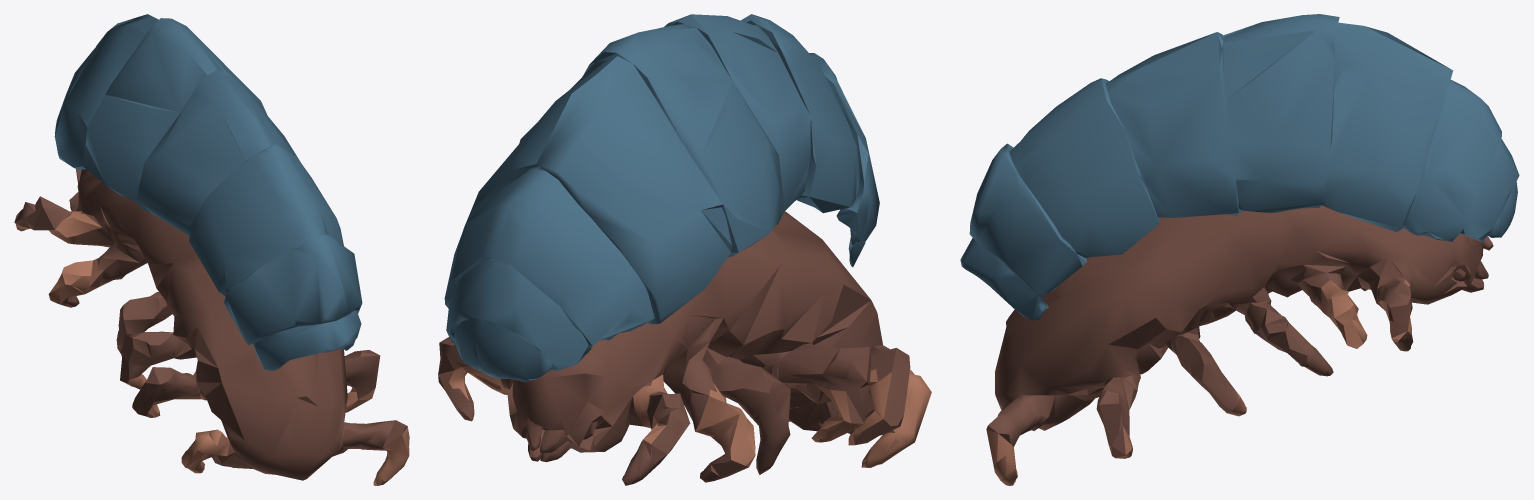
The model's file is big-spitter.glb.
3 views of the same model, side by side, from view 1: azimuth 30°, elevation 25°; view 2: azimuth 150°, elevation 25°; view 3: azimuth 270°, elevation 25° (orthographic). The views are drawn at different scales.
Visible parts, largest first — view 1: body; view 2: body; view 3: body.
Part boxes in pixels (x1=…): body: x1=14, y1=14, x2=409, y2=485; body: x1=438, y1=14, x2=931, y2=485; body: x1=960, y1=14, x2=1519, y2=485.
Size of the model in its own units: 1.68 by 2.67 by 3.14.
